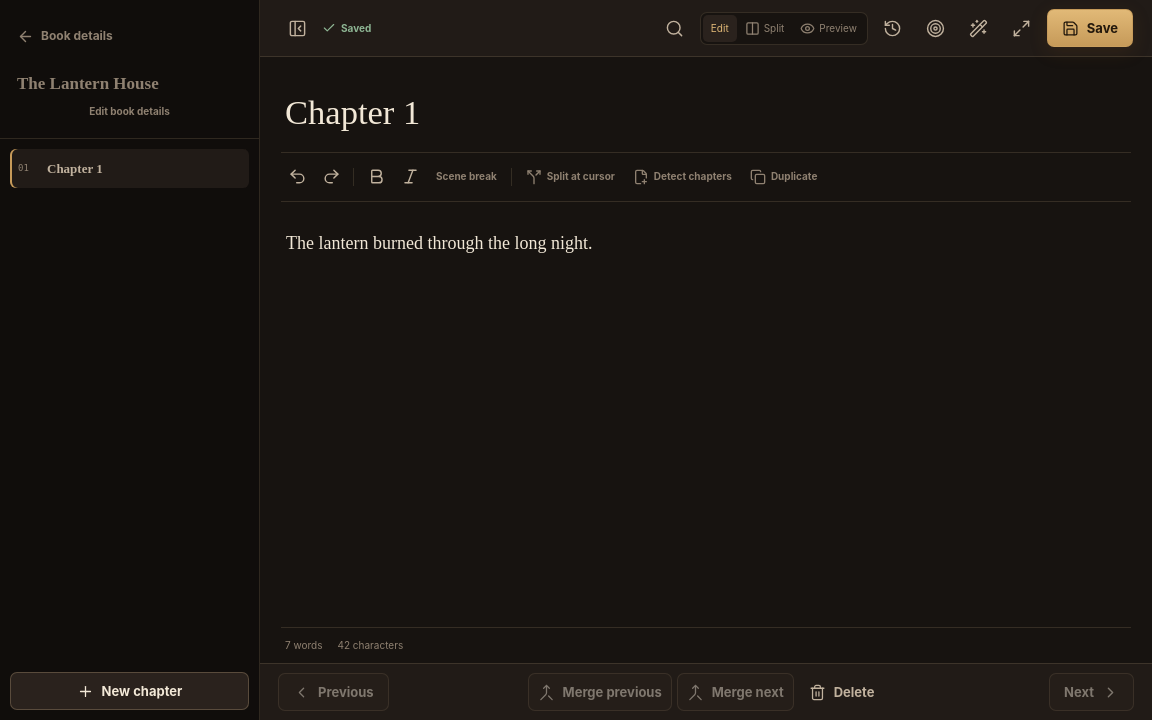
it: EditorPage › blocks close when both the chapter save and recovery draft fail
This screenshot has width=1152, height=720.
Replace the text in the text box named "Chapter text" with "Precious unsaved words.": [706, 414] box [281,202,1131,627]
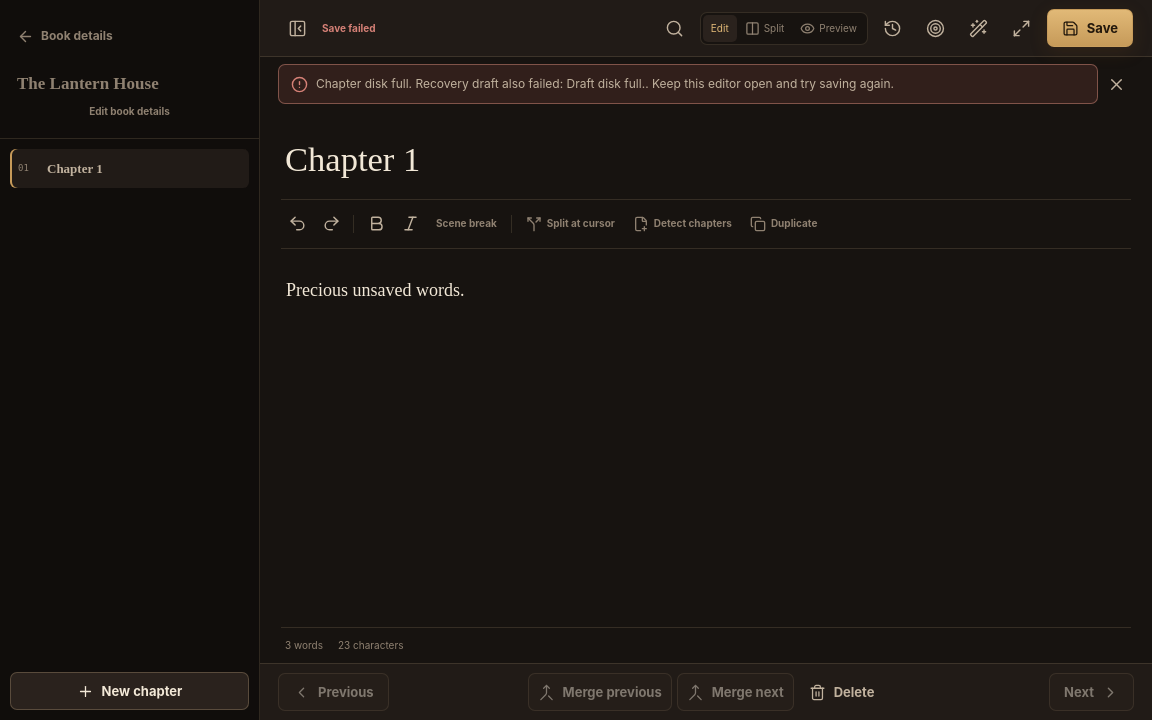
Expected: the text "Recovery draft also failed" is shown, [316,76,894,91]
